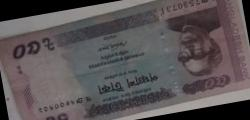50 taka: (11, 2, 240, 119)
